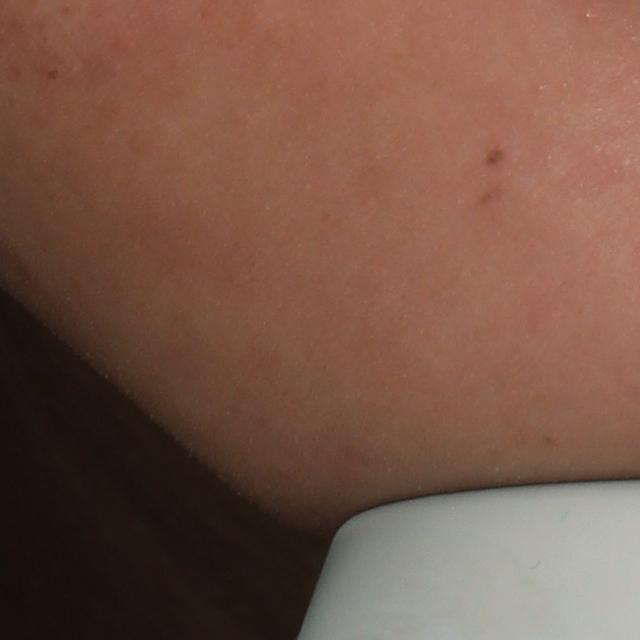nevus: (483, 142, 504, 167)
